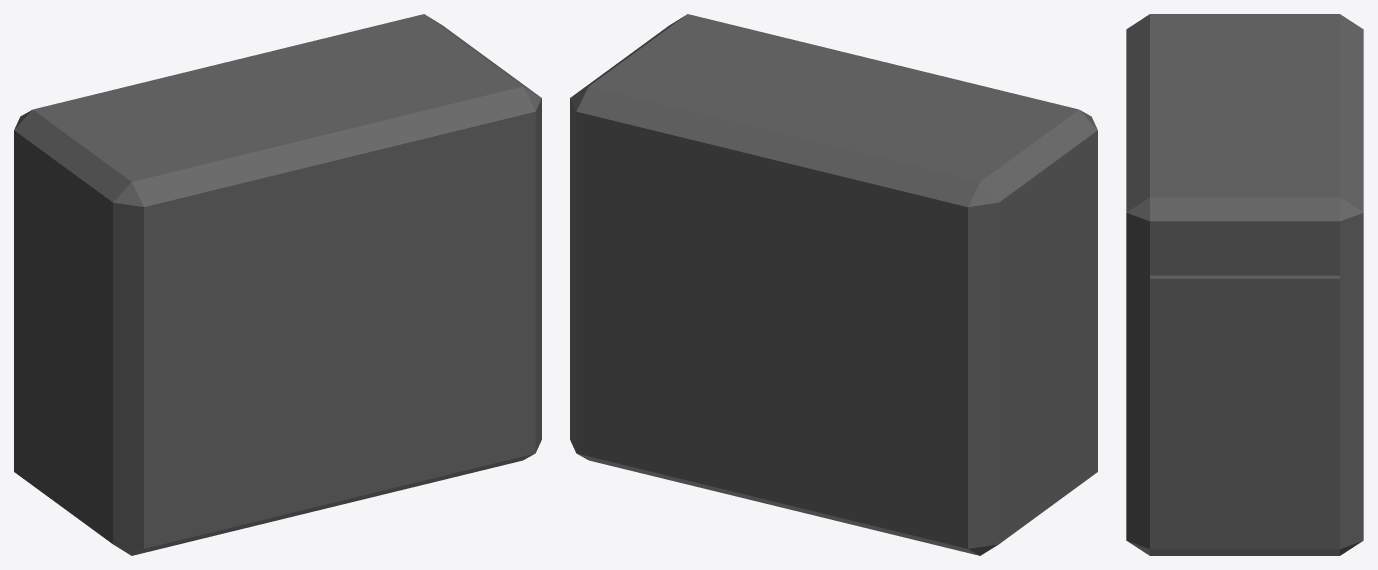
File: Obj_LabComptuter.fbx
3 renders of one model, left to right at view 1: azimuth 30°, elevation 25°; view 2: azimuth 150°, elevation 25°; view 3: azimuth 270°, elevation 25°, orthographic. The views are drawn at different scales.
Parts seen in each view (by area): view 1: Obj_LabComputer; view 2: Obj_LabComputer; view 3: Obj_LabComputer.
Part boxes in pixels (x1,y1,x2,y2): Obj_LabComputer: (14, 14, 541, 555); Obj_LabComputer: (570, 14, 1097, 555); Obj_LabComputer: (1126, 14, 1363, 555).
Bounding box in the file's own units: 0.6 × 0.5 × 0.3.
